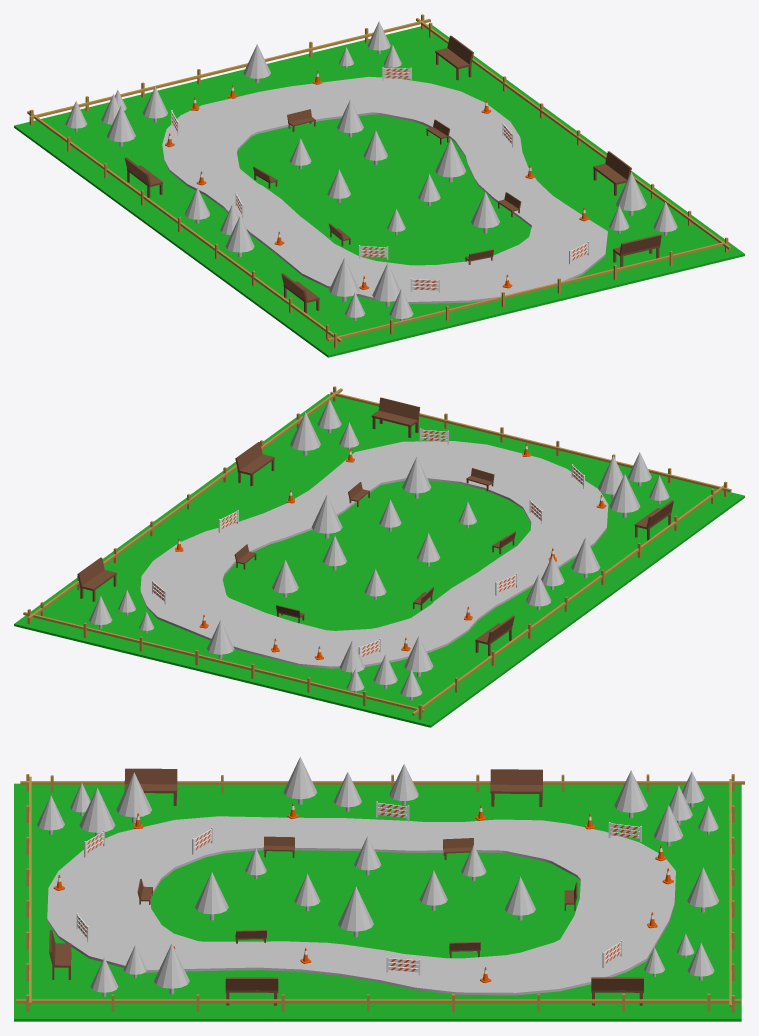
Rendered from Race Track Env.fbx.
3 views of the same model, one above another, from view 1: azimuth 30°, elevation 25°; view 2: azimuth 150°, elevation 25°; view 3: azimuth 270°, elevation 25° (orthographic). The views are drawn at different scales.
Visible parts, largest first — view 1: Ground, Track, Railing, Bench.010, Bench.009, Bench.015, Tree.021, Tree.026, Tree.022, Tree.025, Tree.001, Tree.011 (+4 smaller); view 2: Ground, Track, Railing, Bench.015, Bench.010, Bench.009, Tree.021, Tree.022, Tree.026, Tree.011, Tree.015, Tree.001 (+4 smaller); view 3: Ground, Track, Railing, Bench.011, Bench.012, Tree.022, Tree.021, Tree.026, Bench.009, Tree.025, Bench.010, Tree.011 (+22 smaller).
Boxes of the visible parts, box(x1,y1,x2,y2) form: Ground: box(14, 24, 744, 357); Track: box(162, 76, 607, 304); Railing: box(27, 14, 730, 348); Bench.010: box(435, 35, 473, 80); Bench.009: box(593, 151, 631, 195); Bench.015: box(613, 234, 661, 267); Tree.021: box(435, 138, 465, 182); Tree.026: box(329, 258, 359, 301); Tree.022: box(616, 172, 646, 215); Tree.025: box(372, 263, 400, 306); Tree.001: box(107, 105, 135, 146); Tree.011: box(471, 191, 499, 233); Ground: box(14, 394, 744, 727); Track: box(140, 441, 608, 668); Railing: box(23, 386, 731, 719); Bench.015: box(371, 397, 420, 437); Bench.010: box(77, 557, 116, 601); Bench.009: box(235, 442, 274, 486); Tree.021: box(311, 495, 342, 538); Tree.022: box(290, 412, 320, 455); Tree.026: box(609, 474, 640, 517); Tree.011: box(402, 457, 431, 498); Tree.015: box(571, 537, 600, 578); Tree.001: box(404, 636, 433, 676); Ground: box(14, 783, 741, 1021); Track: box(47, 816, 675, 995); Railing: box(16, 774, 744, 1012); Bench.011: box(490, 769, 542, 806); Bench.012: box(124, 768, 177, 805); Tree.022: box(154, 943, 189, 994); Tree.021: box(338, 886, 373, 937); Tree.026: box(116, 772, 151, 822); Bench.009: box(225, 977, 278, 1005); Tree.025: box(79, 788, 115, 838); Bench.010: box(591, 977, 643, 1005); Tree.011: box(195, 872, 228, 920).
Bounding box in the file's own units: 73.57 × 7.67 × 96.52.
